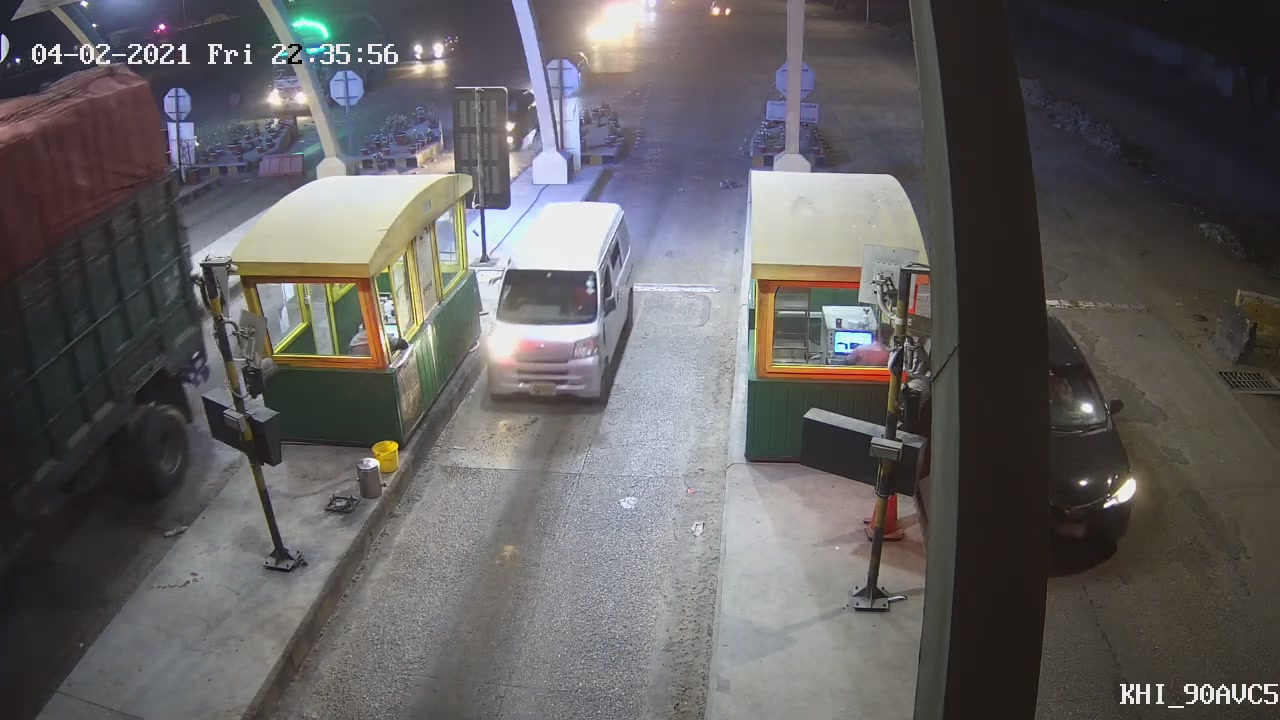F1: (477, 197, 640, 409)
